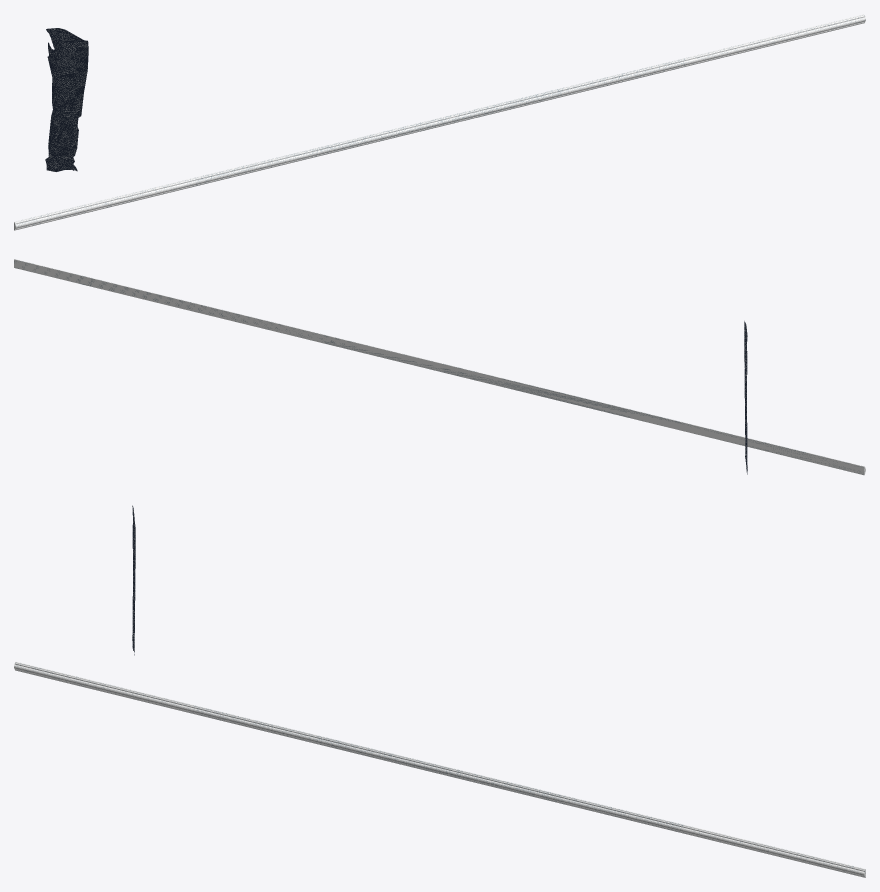
The model's file is railing.fbx.
3 views of the same model, one above another, from view 1: azimuth 30°, elevation 25°; view 2: azimuth 150°, elevation 25°; view 3: azimuth 330°, elevation 25° (orthographic).
Parts seen in each view (by area): view 1: group_0, Sang; view 2: group_0, Sang; view 3: group_0.
Part boxes in pixels (bbox=[...]): group_0: bbox=[14, 14, 865, 230]; Sang: bbox=[45, 28, 88, 171]; group_0: bbox=[14, 259, 865, 475]; Sang: bbox=[744, 321, 747, 474]; group_0: bbox=[14, 662, 865, 877].
Size of the model in its own units: 212 by 19.2 by 37.14.
